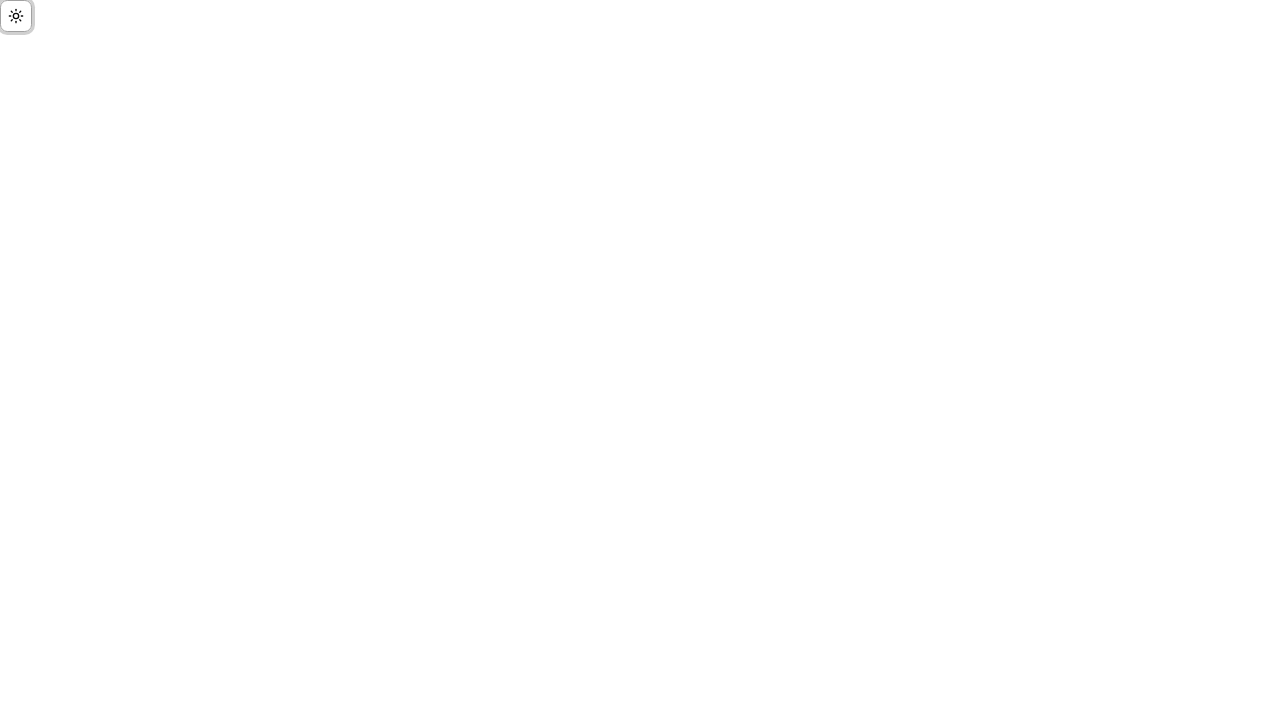
Test: offers keyboard-accessible Light, Dark and System choices and persists selection
Later steps or results of the test are not shown.
Press Enter
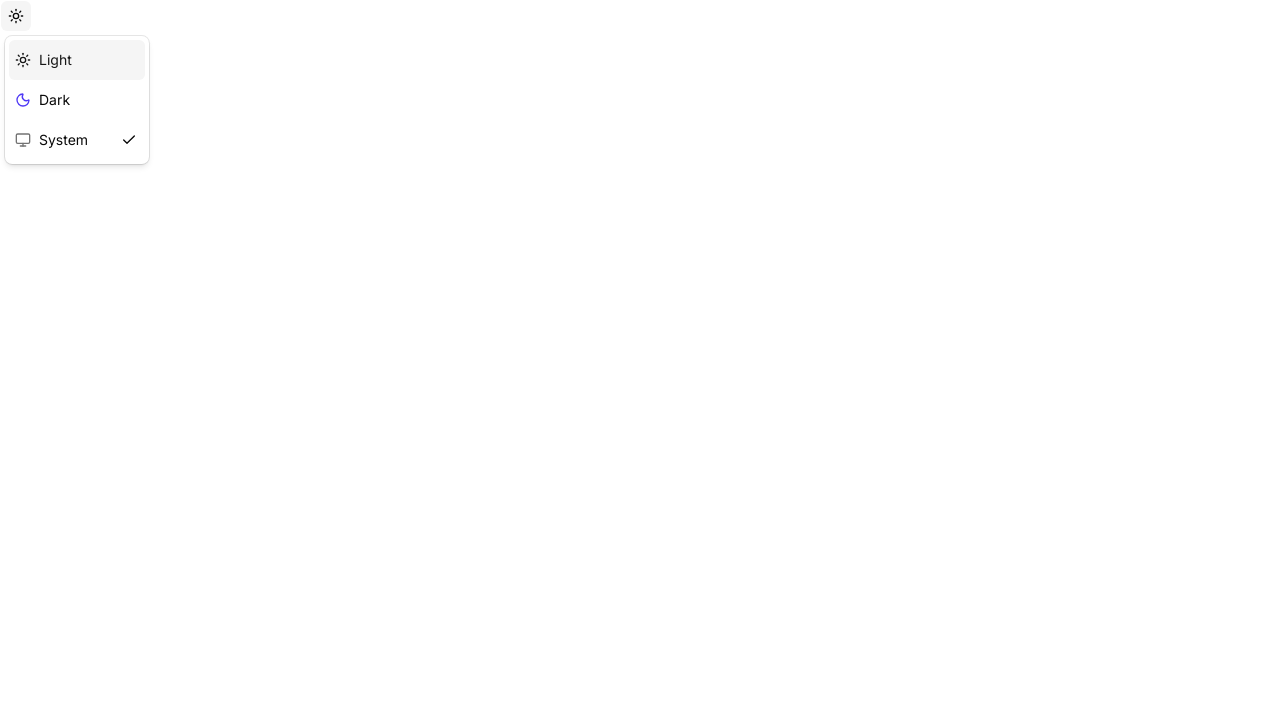
Click the menu item "Dark": coordinates (43, 100) 15,91 -> 70,108
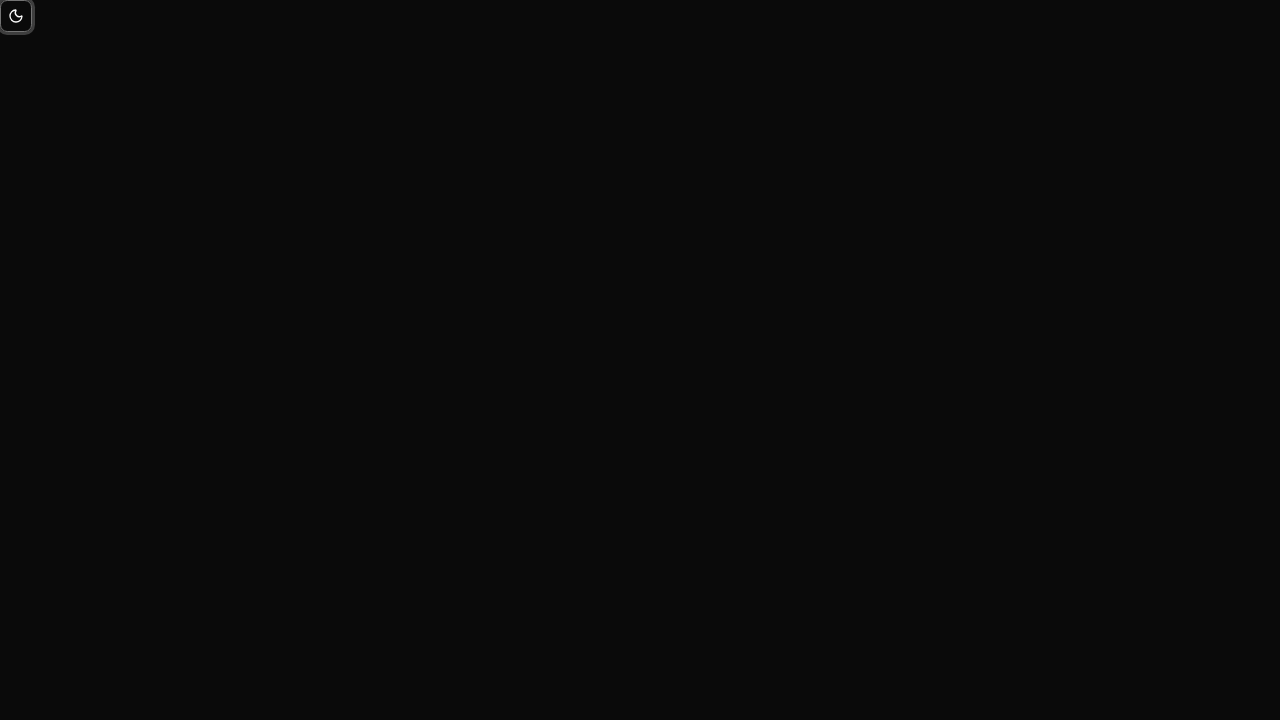
Expected: the menu is gone
